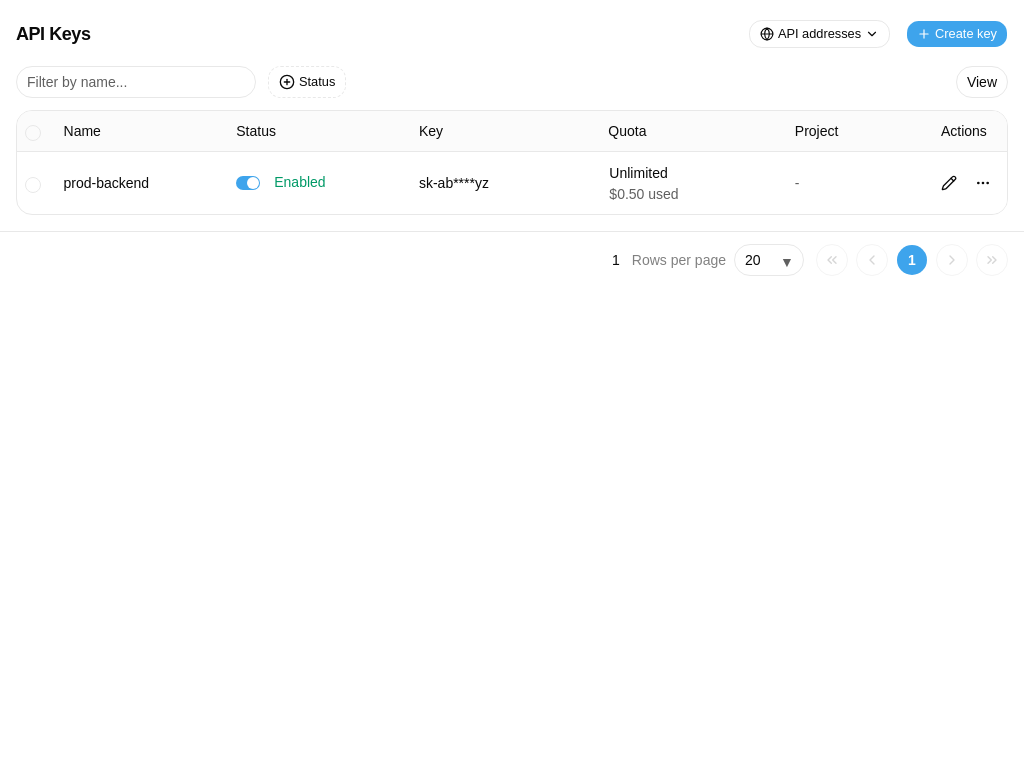
Scenario: KeysPage mutations › rotating confirms, then shows the new one-time secret
Expected: the text "prod-backend" is shown, x1=64 y1=175 x2=149 y2=191
Click the button named "More actions for prod-backend" at (983, 183), box x1=967 y1=167 x2=999 y2=199
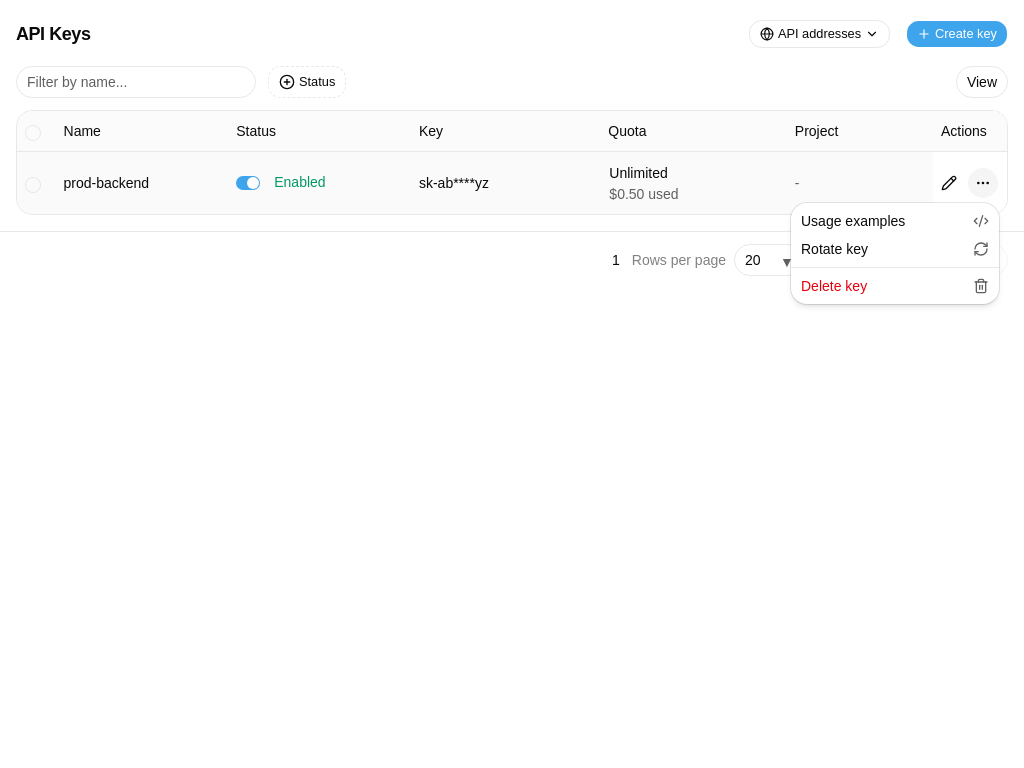
Click the menu item "Rotate key" at (834, 249), box x1=801 y1=241 x2=989 y2=257
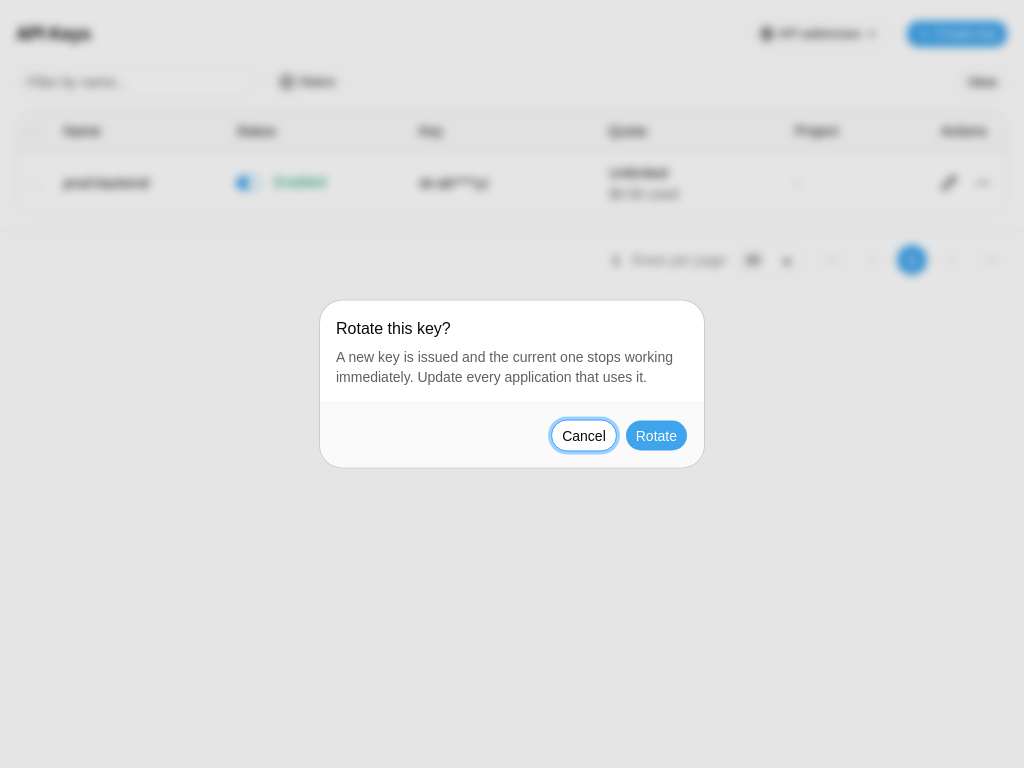
Click the button "Rotate" at (656, 436), box x1=625 y1=420 x2=688 y2=452
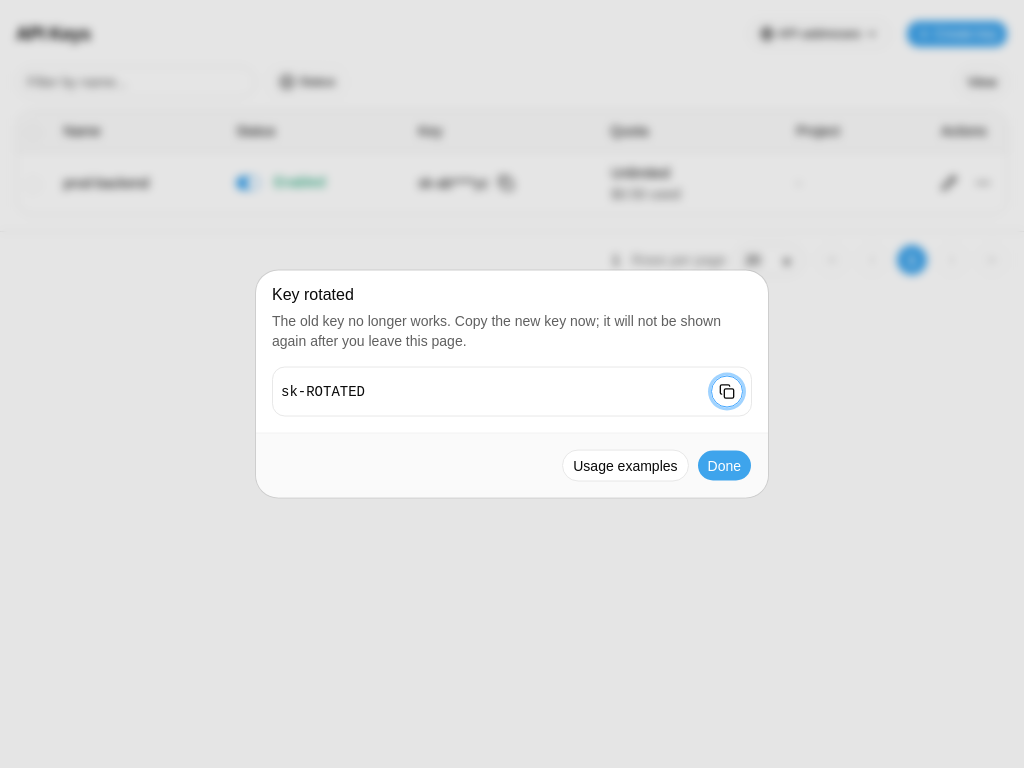
Expected: the text with test id "issued-key" reads "sk-ROTATED", x1=281 y1=384 x2=365 y2=400
